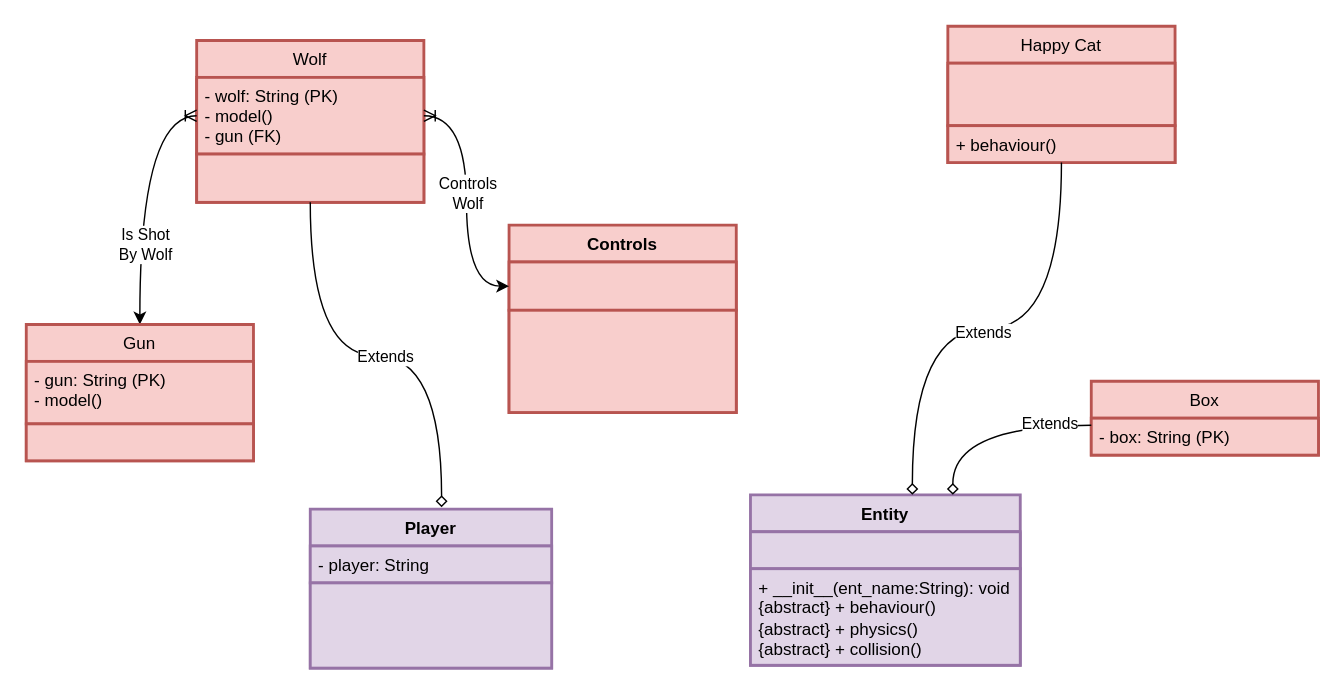
Image size: 1343x696. Some labels were removed from this diagram. Here are the shapes that lost their labels. From the top down, the centre of each, then its label:
[1061,93]: - hap_cat: String (PK) - model()
[310,177]: + controls() (FK)
[622,285]: - controls: String (PK)
[622,360]: + forward() + left() + right() + back()
[139,442]: + shoot()
[884,549]: - ent_name: String
[430,625]: + __init__(player:String): void {abstract} + physics() {abstract} + collision()
